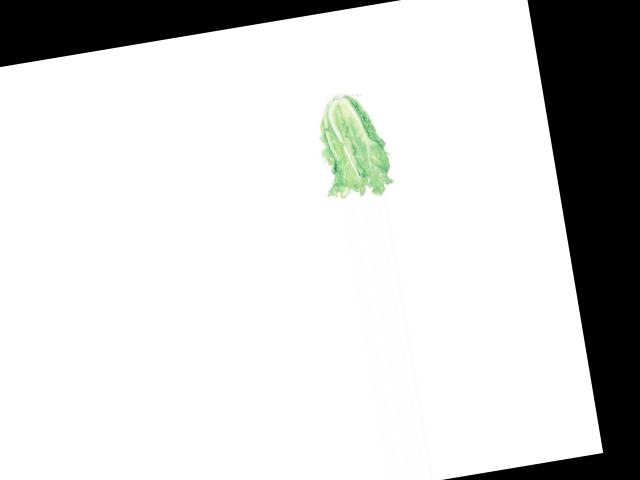lettuce: (309, 90, 395, 204)
